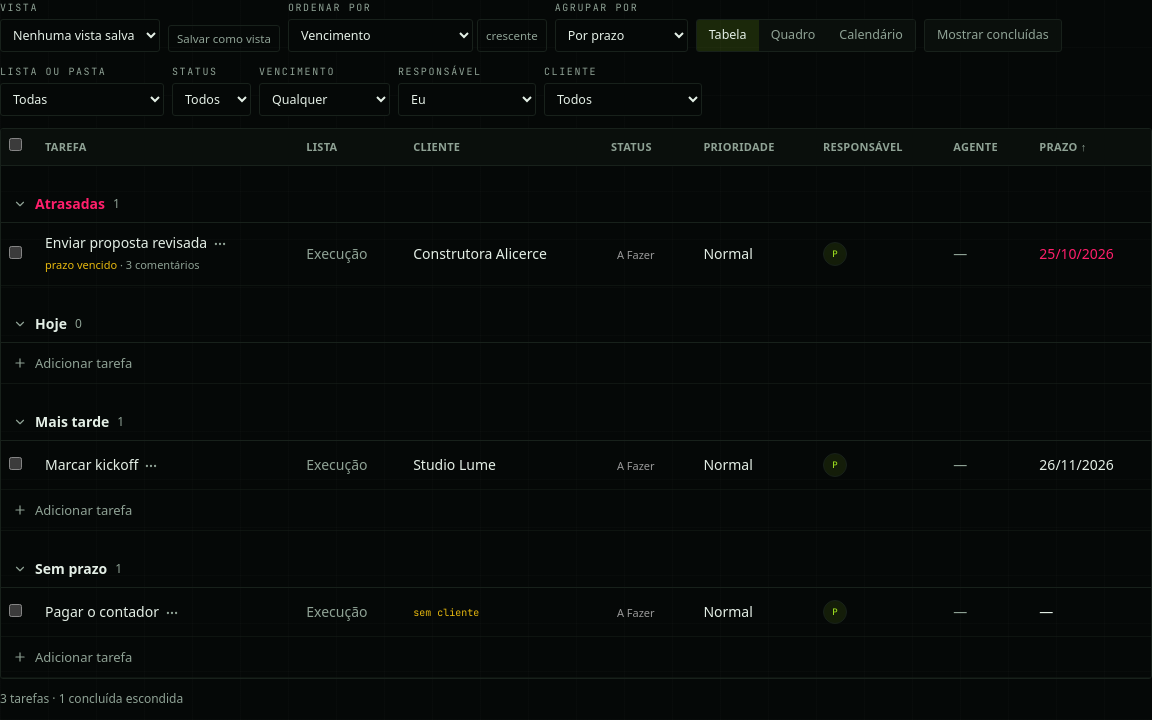
Test: Layout 26/10: Minhas tarefas é a Lista do Trabalho › a linha diz o motivo e os comentários embaixo do nome; o clique abre o pop-up da tarefa
Expected: the element with test id "caixa-motivos-t-1" reads "prazo vencido · 3 comentários", [45, 257, 200, 272]
Step 1. Click the row with test id "caixa-tarefa-t-1" → (576, 254), box [1, 222, 1151, 286]
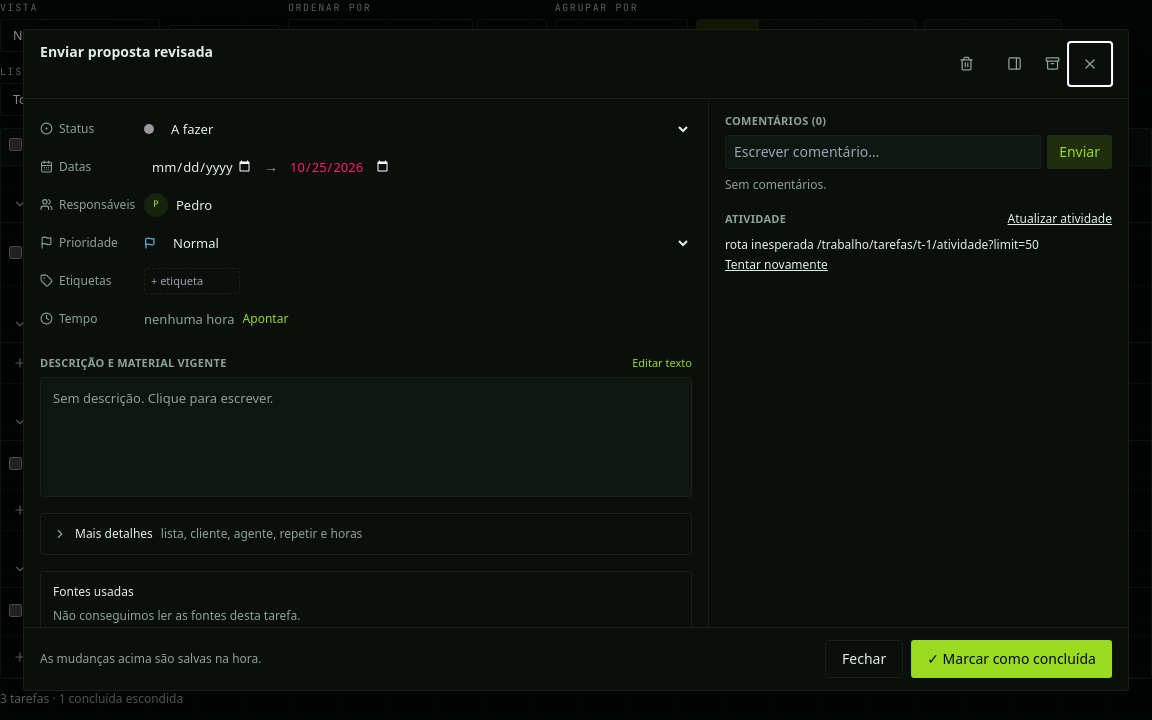
Expected: the dialog with test id "tarefa-popup" is shown
